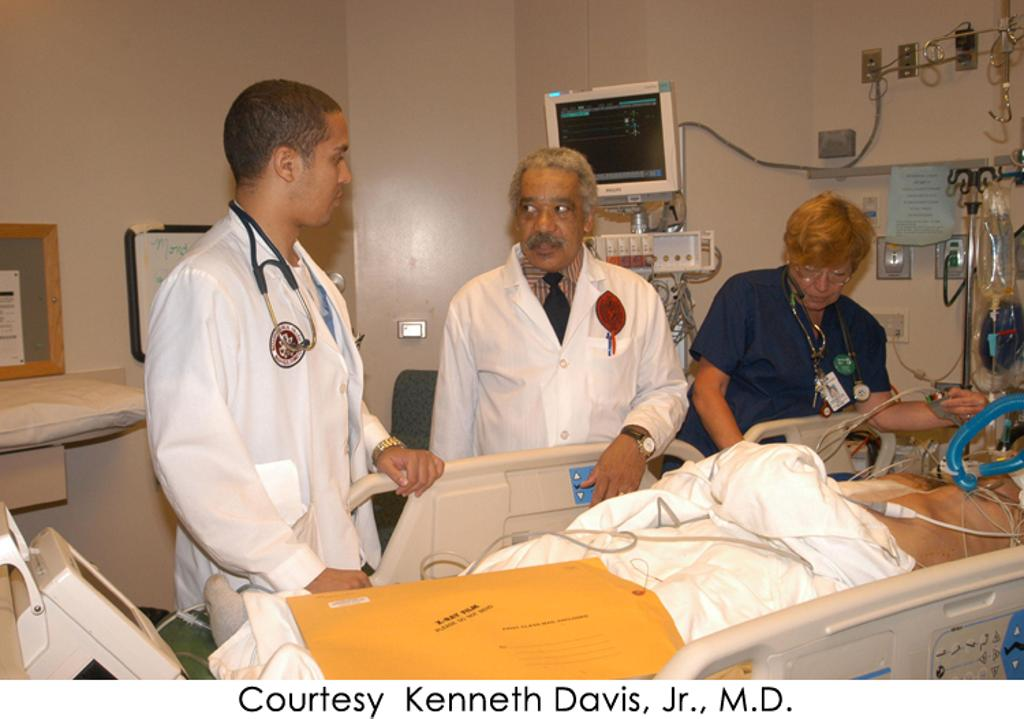face: (516, 170, 578, 264), (298, 114, 350, 224), (790, 250, 848, 310)
